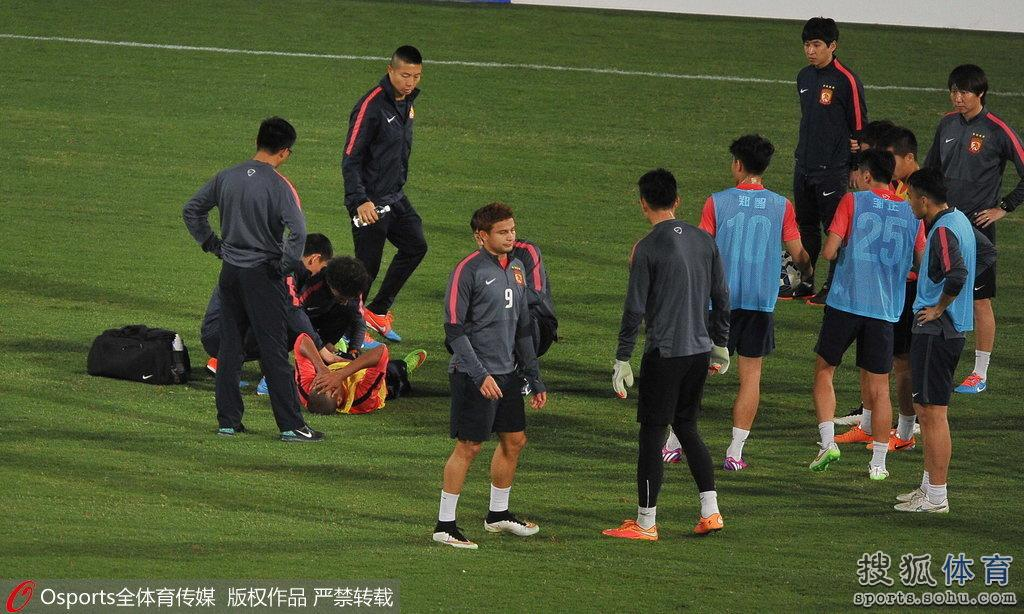bending: (283, 251, 375, 353)
down: (291, 330, 429, 418)
up: (599, 172, 735, 541), (690, 131, 814, 472), (185, 116, 309, 435), (432, 203, 541, 550), (817, 148, 924, 481), (934, 58, 1024, 393), (888, 170, 971, 520), (776, 11, 866, 303), (338, 48, 428, 338)
